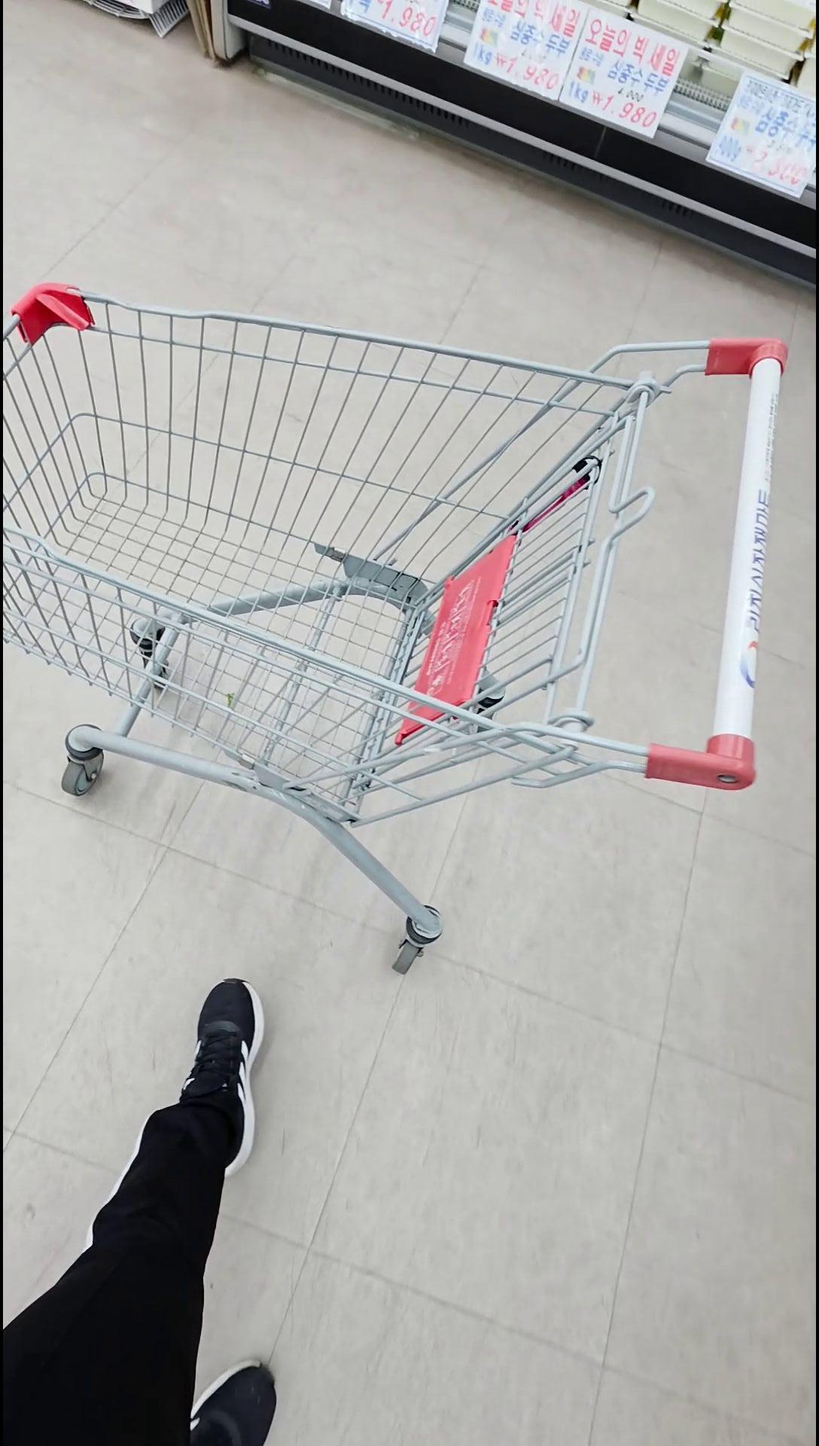empty_cart: (5, 275, 790, 972)
